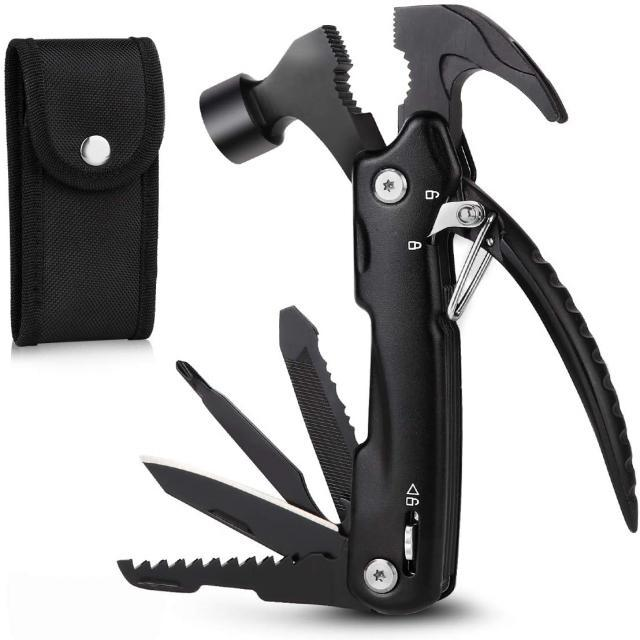hammer: (194, 0, 566, 617)
